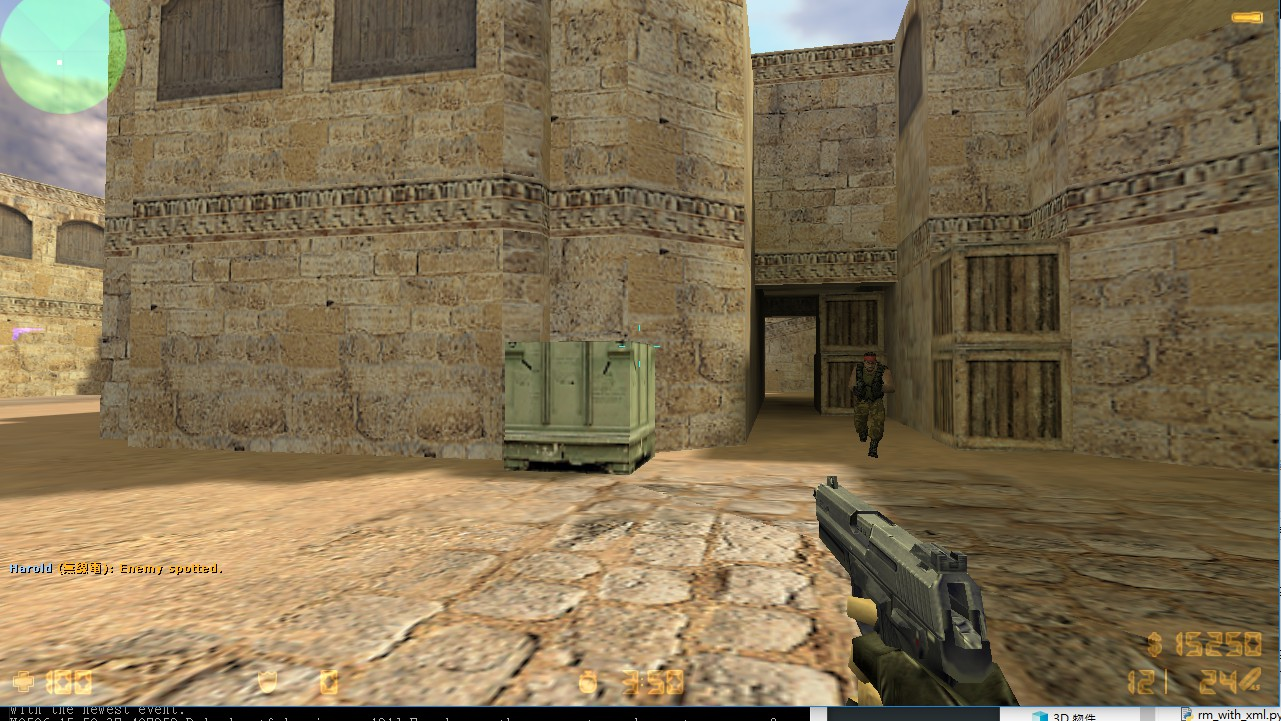person: (851, 351, 892, 458)
